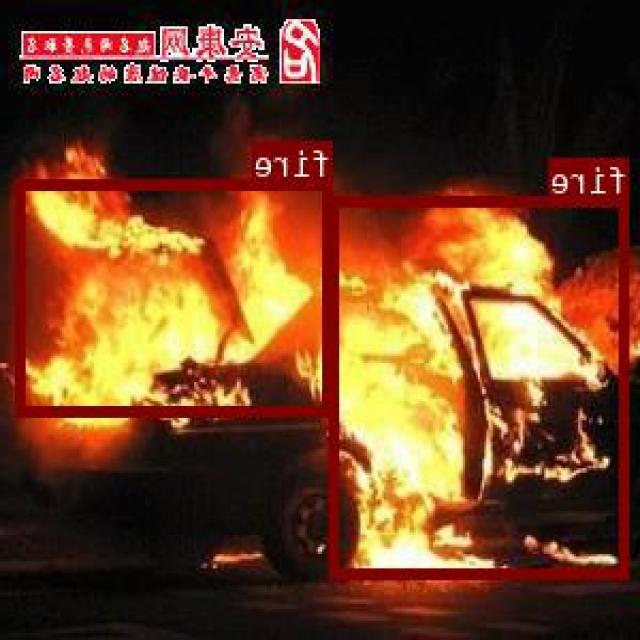fire: (331, 195, 630, 576), (18, 179, 333, 415)
